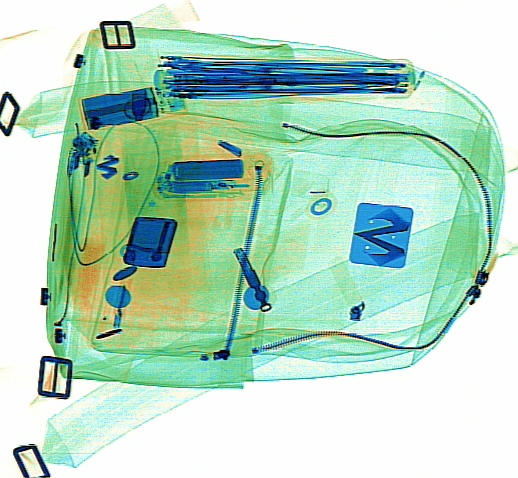lighter: (121, 215, 177, 268)
powerbank: (74, 79, 187, 131)
